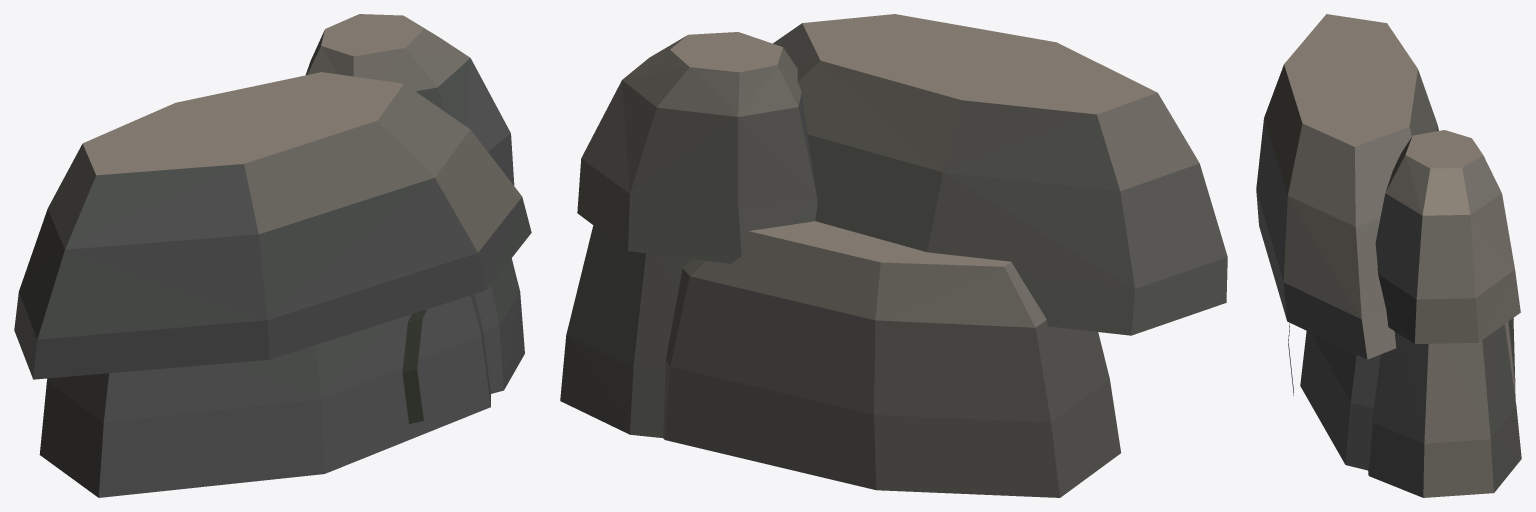
Rendered from verdant-cliff-ledge.glb.
3 renders of one model, left to right at view 1: azimuth 30°, elevation 25°; view 2: azimuth 150°, elevation 25°; view 3: azimuth 270°, elevation 25°, orthographic. The views are drawn at different scales.
Visible parts, largest first — view 1: verdant-cliff-ledge; view 2: verdant-cliff-ledge; view 3: verdant-cliff-ledge.
Part boxes in pixels (x1,y1,x2,y2): verdant-cliff-ledge: (14, 14, 531, 497); verdant-cliff-ledge: (560, 14, 1227, 497); verdant-cliff-ledge: (1256, 14, 1521, 497).
Bounding box in the file's own units: 3.88 × 2.32 × 1.93.
1 material, 1 textured.
